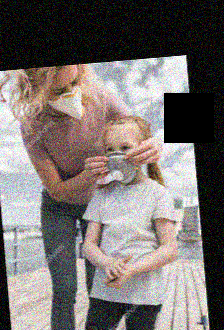with_mask: (48, 72, 84, 125), (105, 139, 140, 185)
